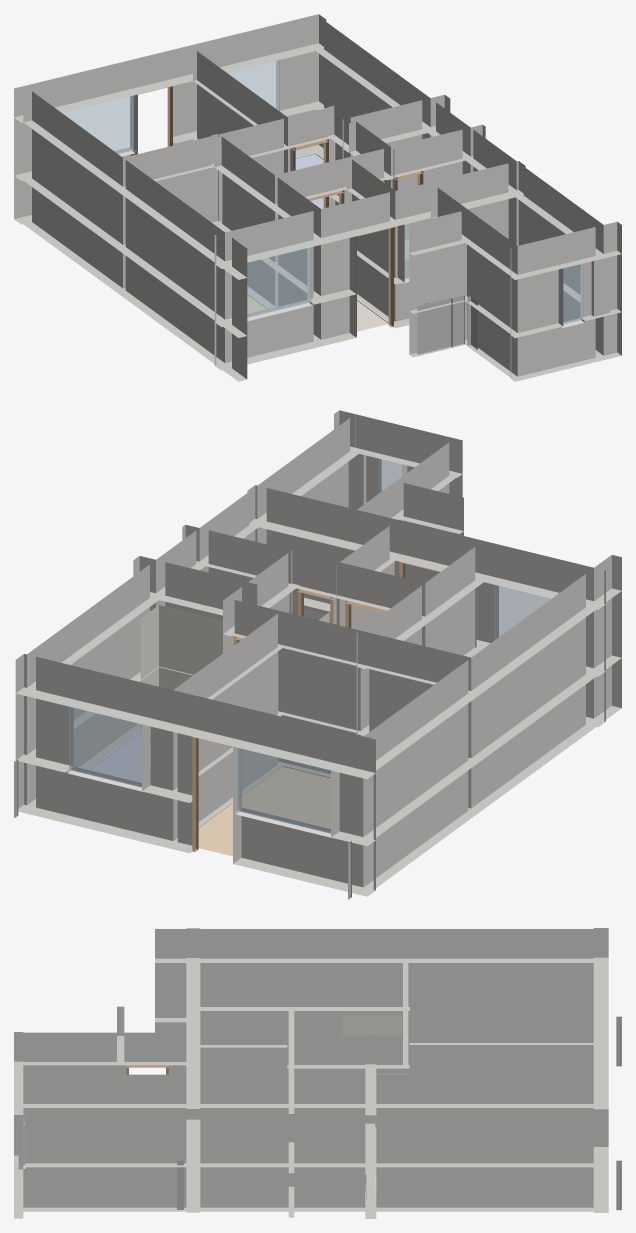
3 renders of one model, top to bottom at view 1: azimuth 30°, elevation 25°; view 2: azimuth 150°, elevation 25°; view 3: azimuth 270°, elevation 25°, orthographic. The views are drawn at different scales.
Visible parts, largest first — view 1: walls, window_4, railings, window_2, window_0, window_11, door_3, floor_5_Entry; view 2: walls, window_2, furniture_0_closet, floor_0_Living_Room, window_0, window_4, floor_1_Bed_Room, door_1; view 3: walls, furniture_1_closet, railings.
Boxes of the visible parts, x1,y1,x2,y2 form: walls: (14,14,621,381); window_4: (247,244,311,317); railings: (417,295,477,354); window_2: (62,95,133,153); window_0: (227,60,279,111); window_11: (561,261,583,324); door_3: (356,227,393,335); floor_5_Entry: (357,300,388,331); walls: (15,410,621,896); window_2: (237,743,335,833); furniture_0_closet: (140,605,222,729); floor_0_Living_Room: (198,766,330,856); window_0: (69,702,146,787); window_4: (494,585,555,639); floor_1_Bed_Room: (89,731,141,782); door_1: (192,736,232,852); walls: (14,928,608,1218); furniture_1_closet: (342,1015,401,1035); railings: (177,1016,621,1210).
Bounding box in the file's own units: 6.84 × 2.72 × 11.17.
